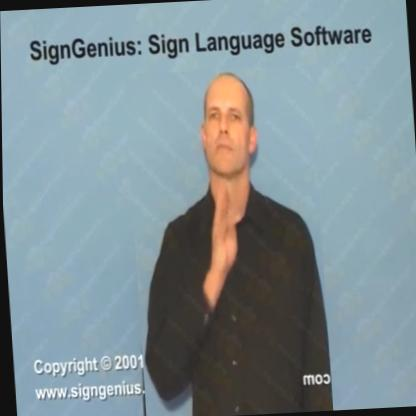Talk: (123, 64, 332, 416)
